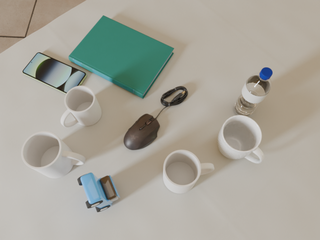book: (69, 15, 174, 98)
bottle: (233, 67, 272, 117)
cup: (21, 131, 85, 178), (217, 115, 264, 163), (163, 150, 214, 193), (61, 85, 102, 127)
mouse: (124, 114, 160, 150)
phone: (22, 52, 87, 94)
toy_car: (77, 173, 120, 212)
